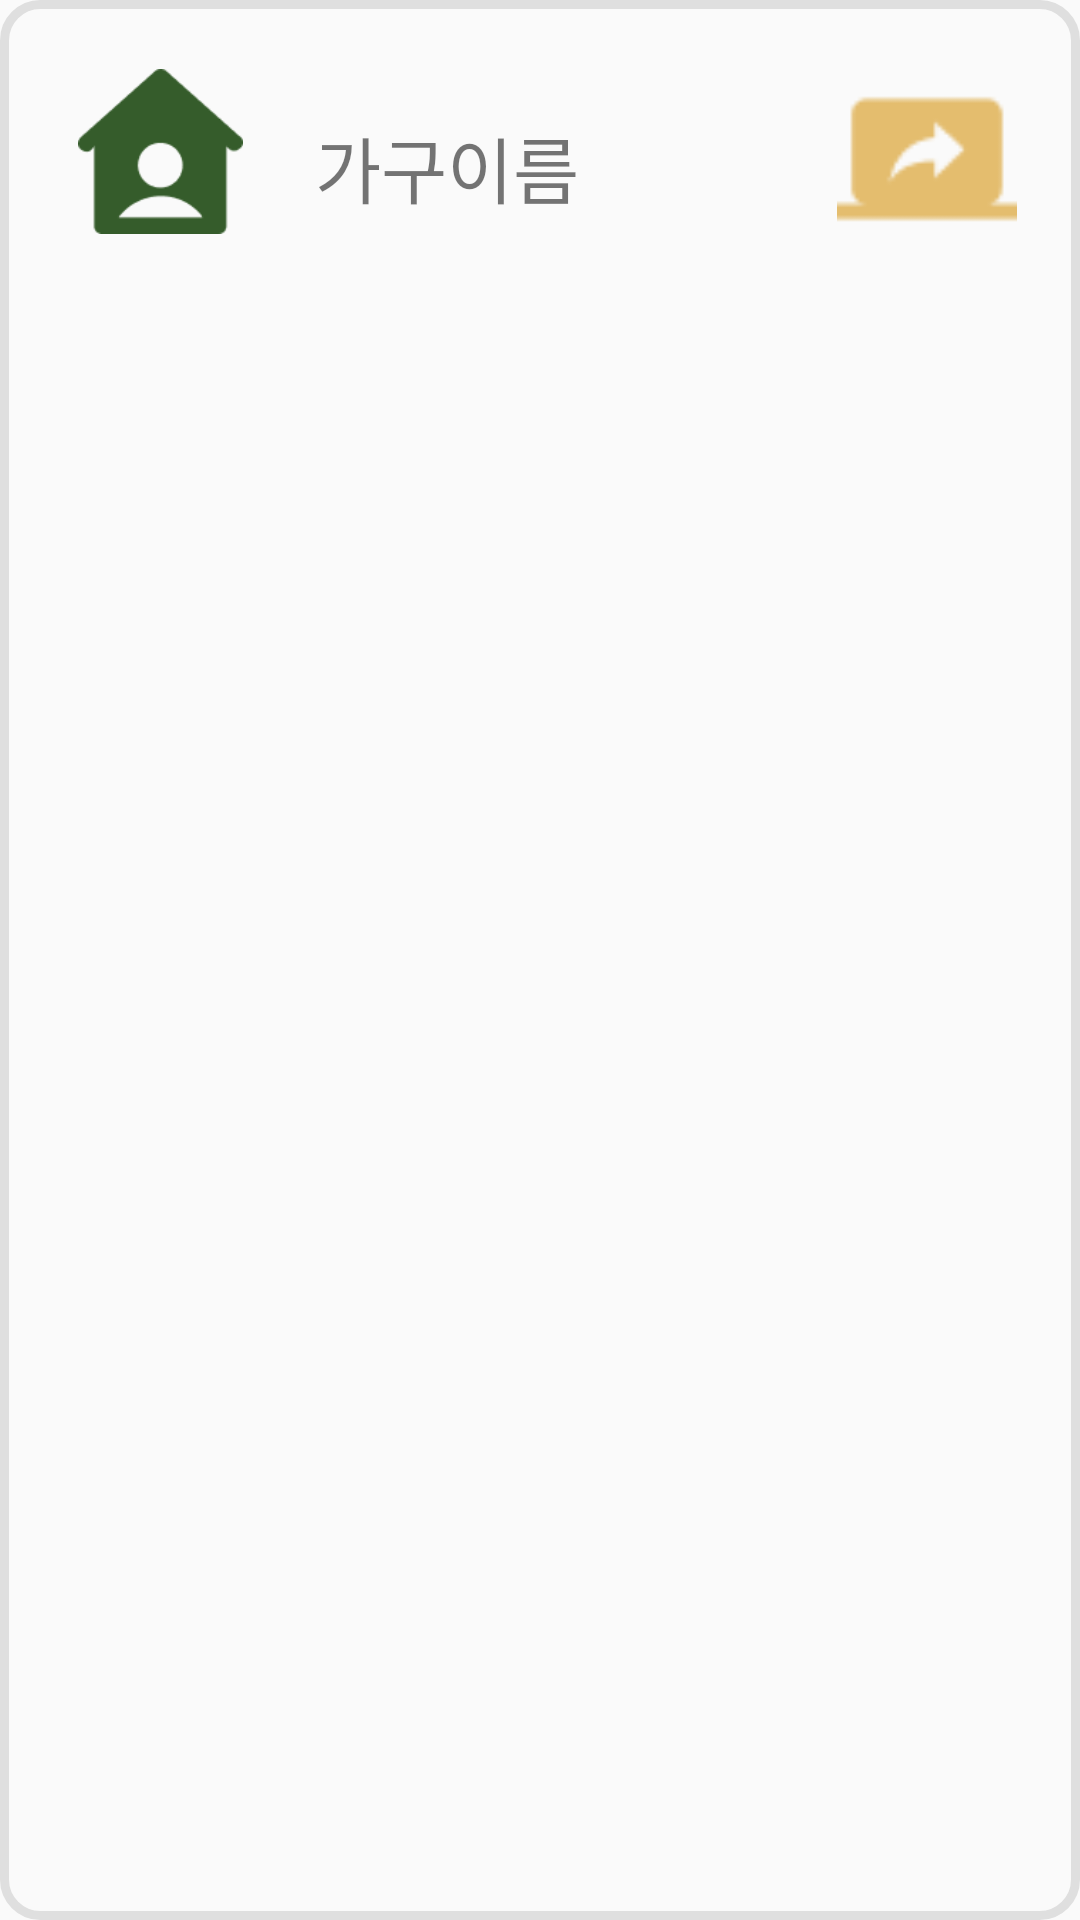

Icons on this 1080x1920 Android screen, each with the point to tap as (x=x, y=y):
household: (x=160, y=151)
screen share: (x=927, y=159)
